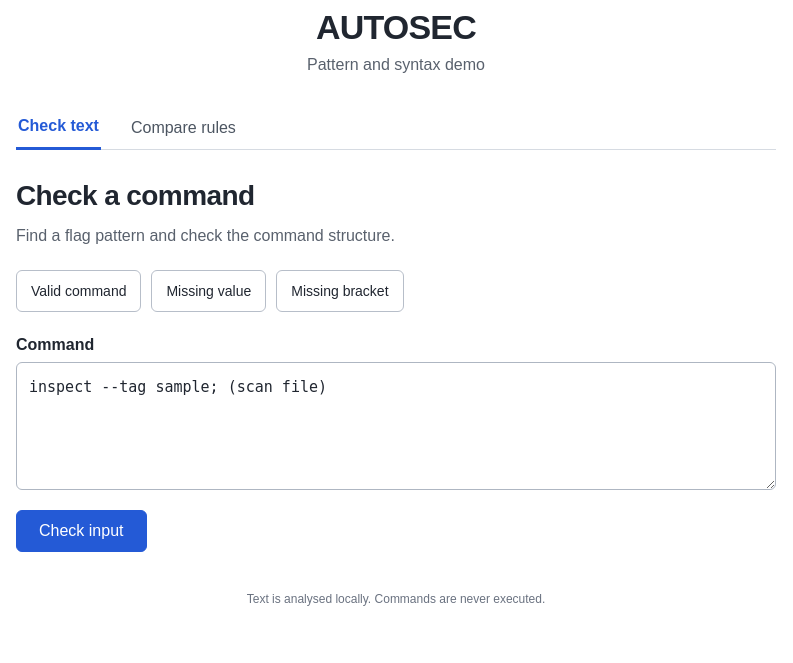
Small demo flows › cancels pending work and ignores late results
Click the button "Check input": (81, 531) [16, 510, 146, 552]
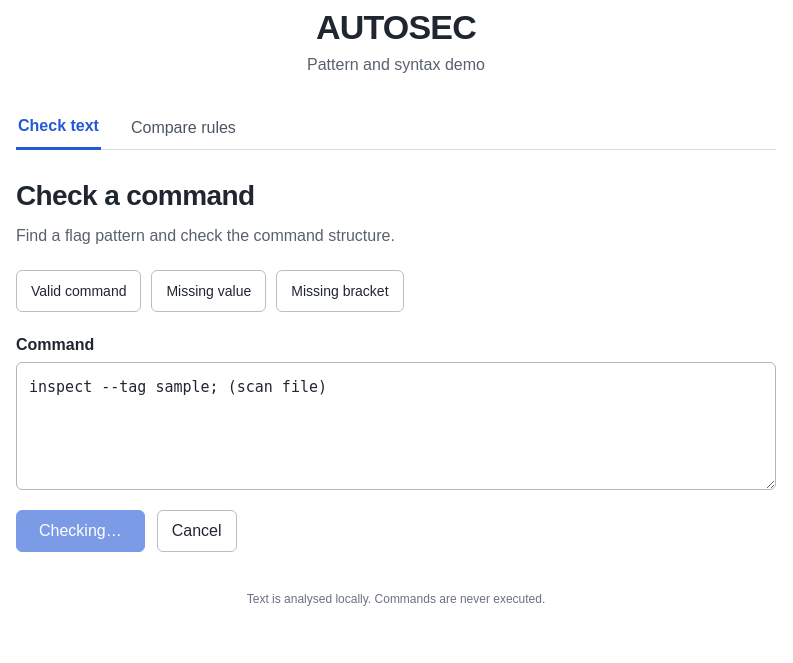
Click the button "Cancel": (197, 531) [157, 510, 236, 552]
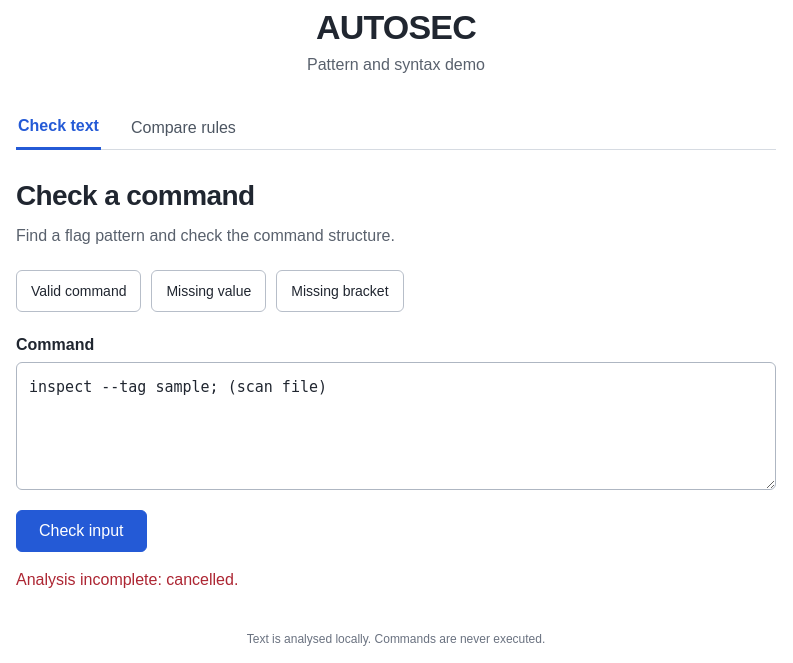
Expected: the message shows "cancelled", [16, 571, 238, 588]
